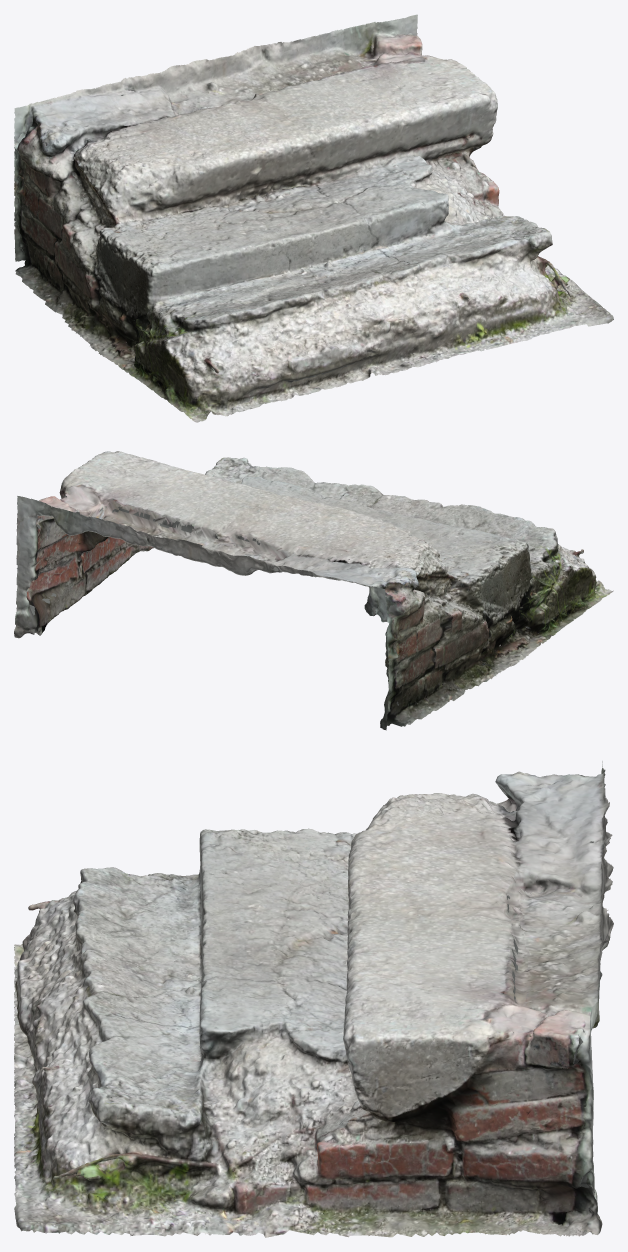
Rendered from sf-steps-from-3d-scanning-tutorial-31a21b.glb.
The picture shows the model from 3 angles, top to bottom: view 1: azimuth 30°, elevation 25°; view 2: azimuth 150°, elevation 25°; view 3: azimuth 270°, elevation 25°; orthographic projection. The views are drawn at different scales.
Visible parts, largest first — view 1: ConcreteSteps_ConcreteSteps_mtl_0; view 2: ConcreteSteps_ConcreteSteps_mtl_0; view 3: ConcreteSteps_ConcreteSteps_mtl_0.
Boxes of the visible parts, x1=… form: ConcreteSteps_ConcreteSteps_mtl_0: x1=14, y1=14, x2=613, y2=422; ConcreteSteps_ConcreteSteps_mtl_0: x1=14, y1=451, x2=613, y2=730; ConcreteSteps_ConcreteSteps_mtl_0: x1=14, y1=761, x2=613, y2=1237.
Size of the model in its own units: 68.47 by 23.19 by 59.79.
Materials: 1 (1 with a texture image).
